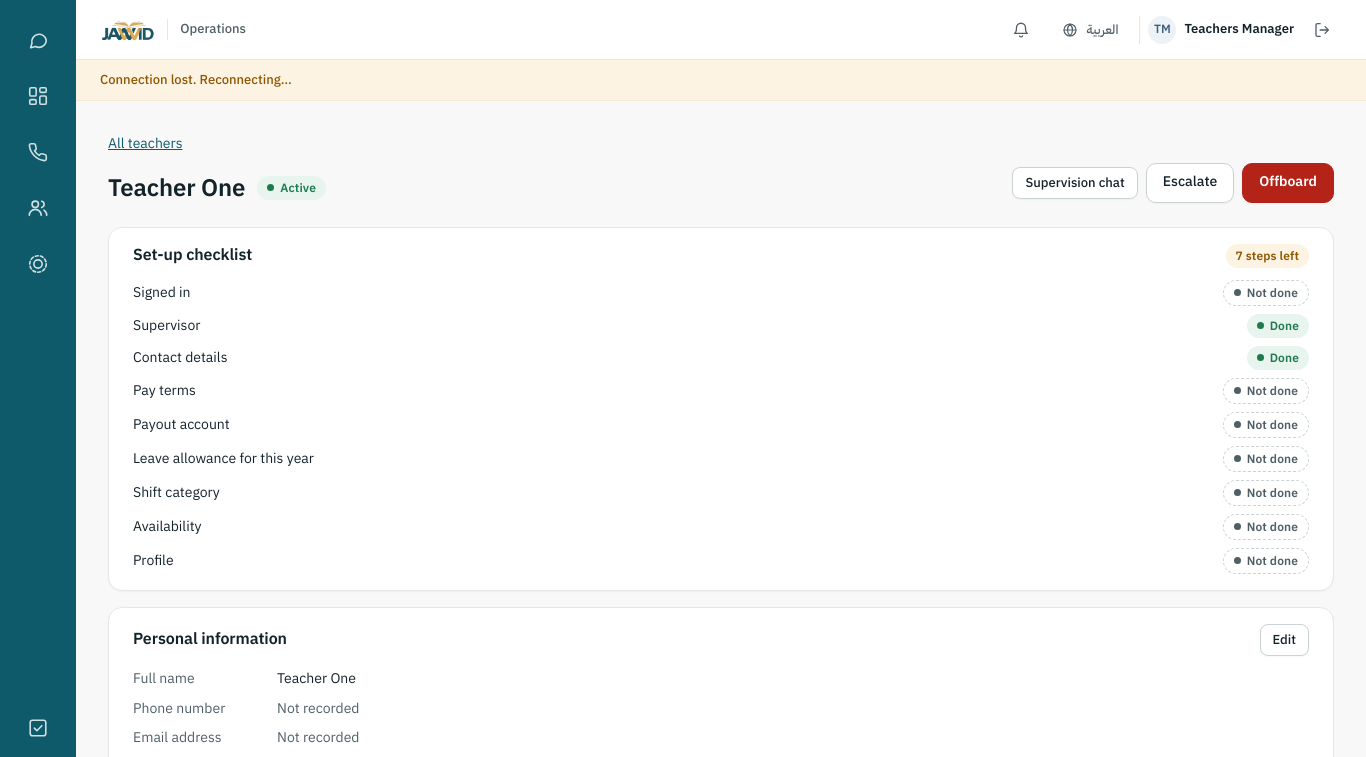
Scenario: Offboard › lessons ahead: each one listed; offboarding waits for the explicit confirmation, then asks to cancel them
Click the button "Offboard": [1288, 183] box [1242,163,1334,203]
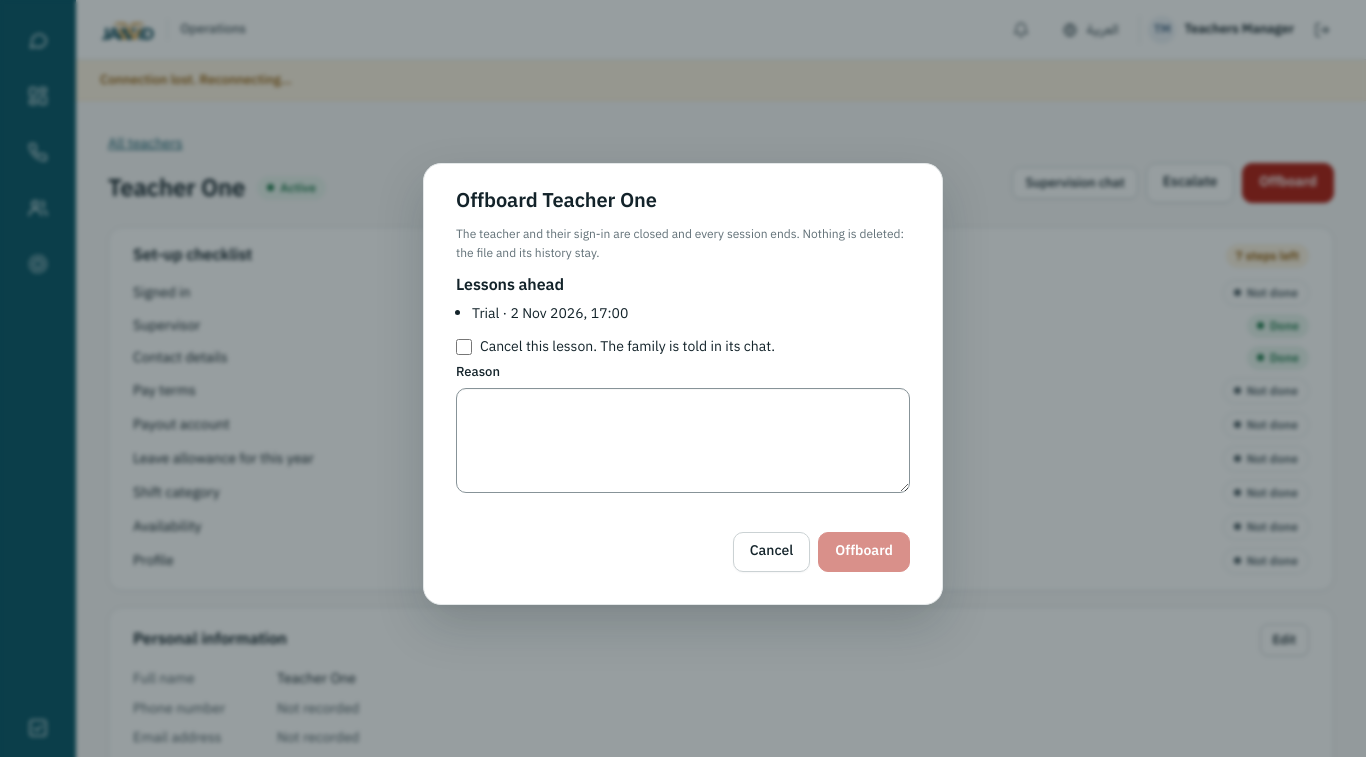
Check: the list item "Trial · 2 Nov 2026, 17:00" is shown, box [472,303,628,324]
In the text box labelled "Reason": [683, 440] box [456,388,910,493], type "Left the academy"
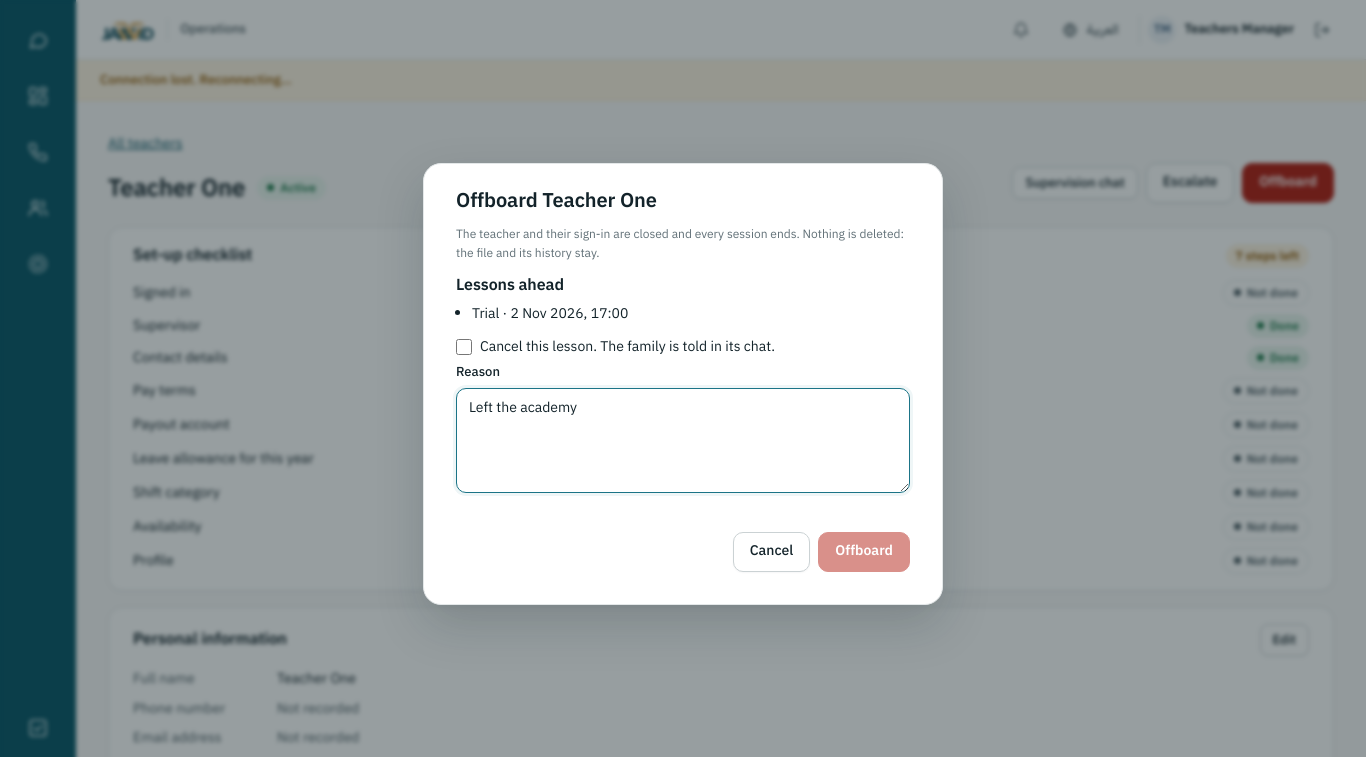
Check: the button "Offboard" below "2 Nov 2026, 17:00" is disabled, box [818,532,910,572]
Click the checkbox labelled "Cancel this lesson. The family is told in its chat.": [464, 347] box [456,339,472,355]
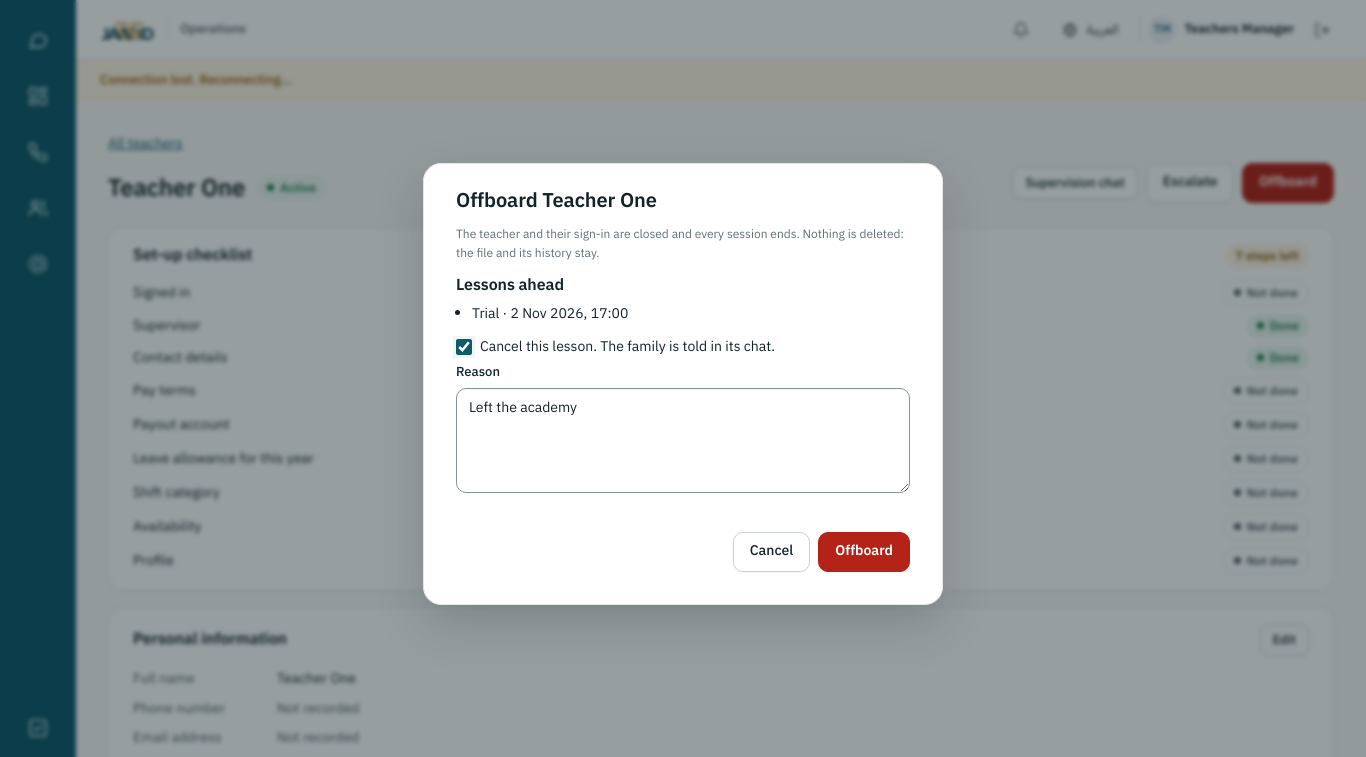
Check: the button "Offboard" below "2 Nov 2026, 17:00" is enabled
Click the button "Offboard" below "2 Nov 2026, 17:00": [864, 552] box [818,532,910,572]
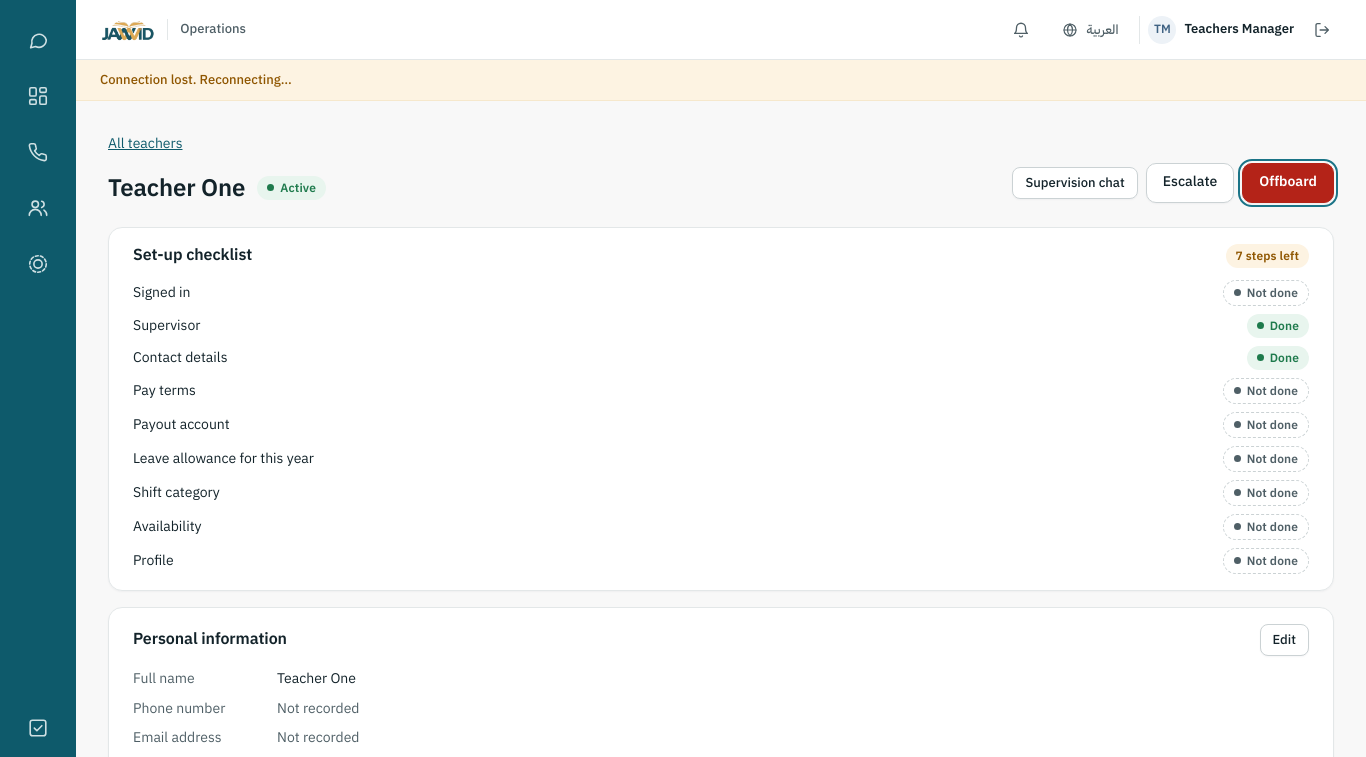
Check: the heading "Offboard Teacher One" is gone
